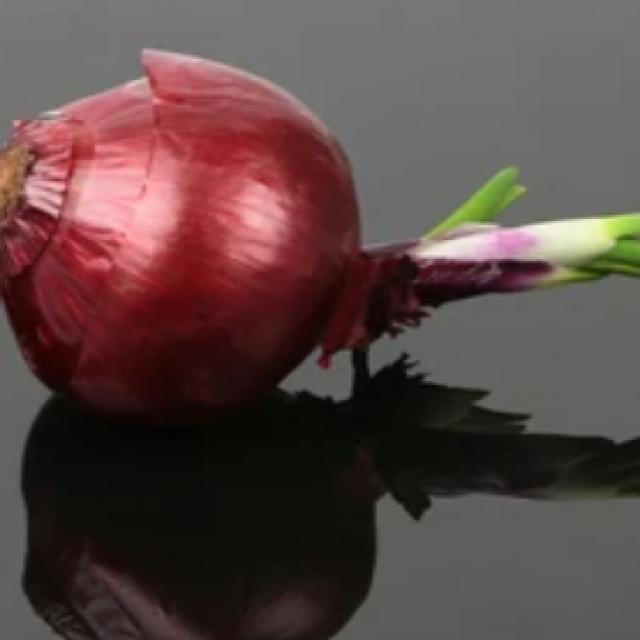sprouting: (381, 158, 640, 314)
